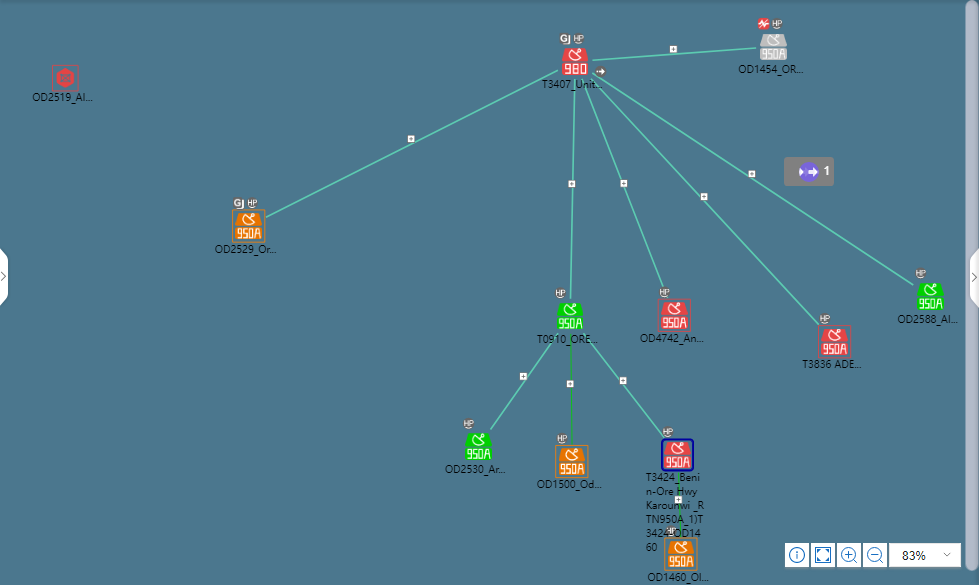Link_Blue: (590, 69, 919, 288), (590, 84, 817, 331), (266, 69, 554, 216), (578, 75, 668, 286), (584, 332, 668, 441), (486, 332, 555, 435), (590, 45, 760, 60), (566, 75, 575, 300)
Link_Green: (566, 332, 577, 444), (676, 473, 687, 536)
RTN_Gray: (762, 32, 791, 62)
RTN_Green: (462, 436, 490, 465), (915, 283, 942, 312), (560, 302, 581, 329)
RTN_Orange: (554, 449, 589, 478), (236, 210, 265, 245), (664, 540, 699, 568)
RTN_Red: (817, 326, 852, 361), (658, 302, 693, 329), (560, 51, 589, 80), (664, 442, 693, 471)
